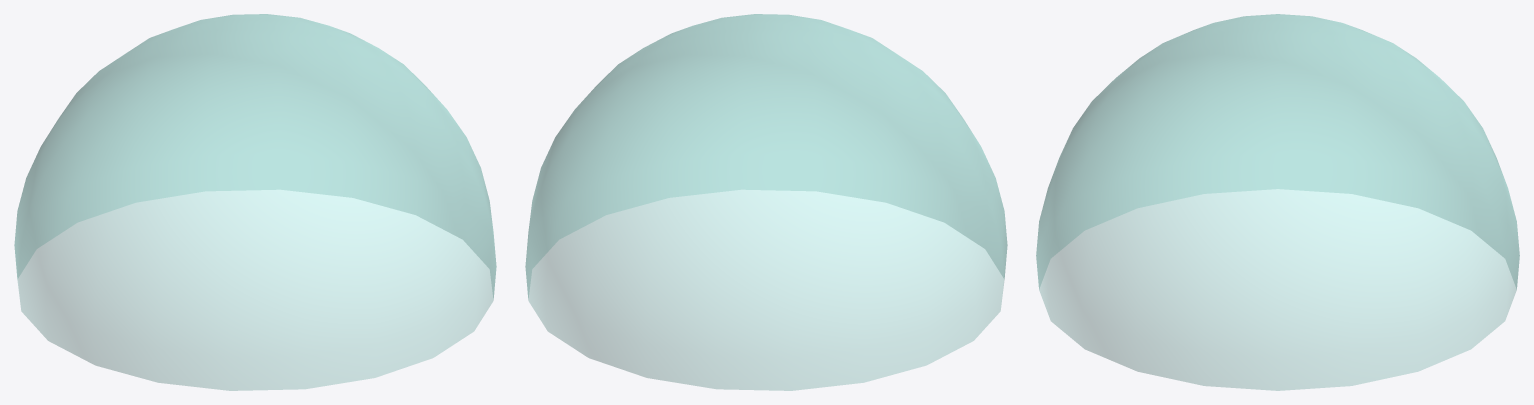
The model's file is shield.fbx.
3 views of the same model, side by side, from view 1: azimuth 30°, elevation 25°; view 2: azimuth 150°, elevation 25°; view 3: azimuth 270°, elevation 25° (orthographic).
Parts seen in each view (by area): view 1: shield; view 2: shield; view 3: shield.
Boxes of the visible parts, x1=… form: shield: x1=14, y1=14, x2=496, y2=390; shield: x1=525, y1=14, x2=1007, y2=390; shield: x1=1036, y1=14, x2=1519, y2=390.
Bounding box in the file's own units: 180 × 104 × 180.
